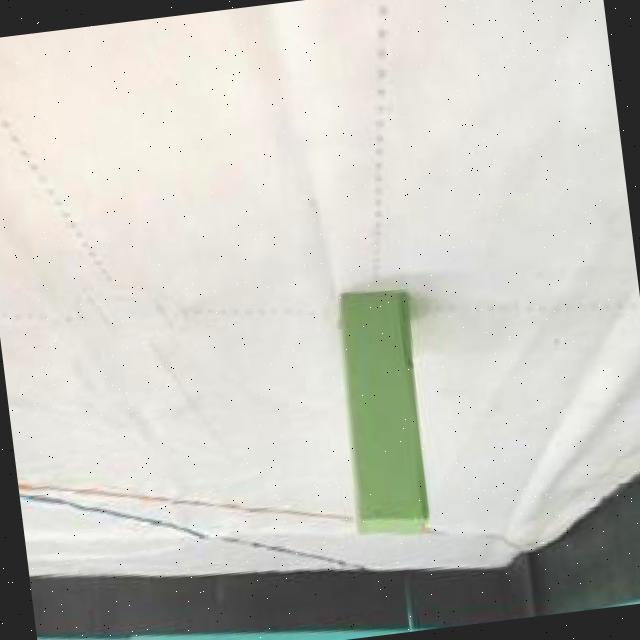greenbox: (322, 283, 440, 548)
